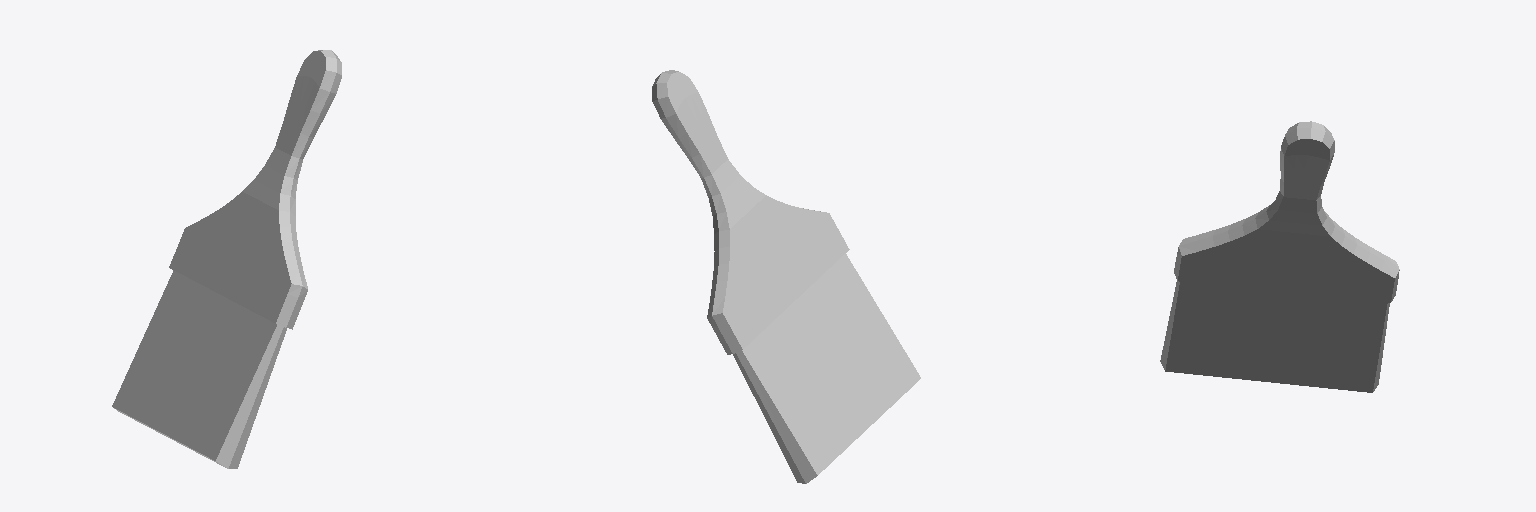
Rendered from DisplayPaint.obj.
3 renders of one model, left to right at view 1: azimuth 30°, elevation 25°; view 2: azimuth 150°, elevation 25°; view 3: azimuth 270°, elevation 25°, orthographic.
Visible parts, largest first — view 1: DisplayPaint_Plane; view 2: DisplayPaint_Plane; view 3: DisplayPaint_Plane.
Boxes of the visible parts, box(x1,y1,x2,y2) form: DisplayPaint_Plane: box(112, 50, 341, 468); DisplayPaint_Plane: box(652, 70, 920, 483); DisplayPaint_Plane: box(1160, 121, 1399, 392).
Bounding box in the file's own units: 1.04 × 1.79 × 1.11.